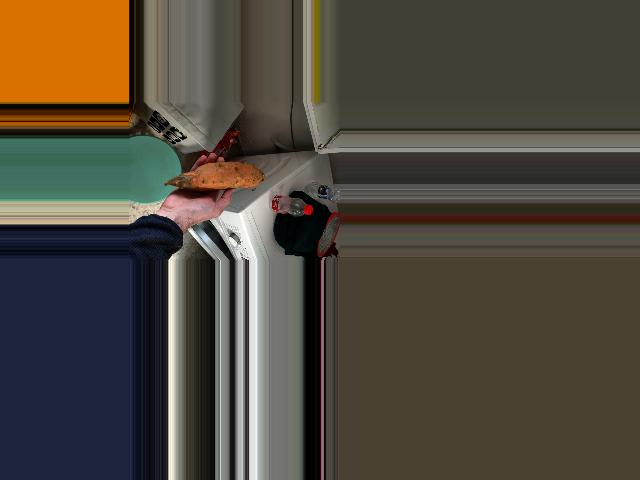sweet_potato: (168, 162, 264, 192)
